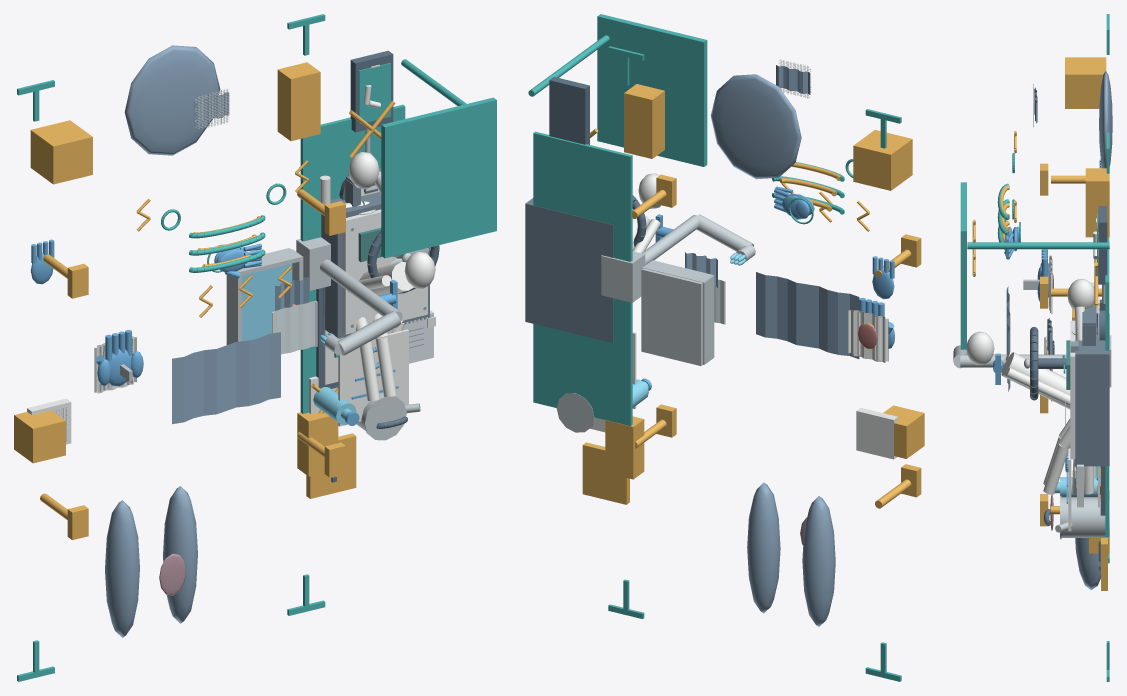
The model's file is teaching-props.glb.
3 views of the same model, side by side, from view 1: azimuth 30°, elevation 25°; view 2: azimuth 150°, elevation 25°; view 3: azimuth 270°, elevation 25° (orthographic). The views are drawn at different scales.
Visible parts, largest first — view 1: teaching_shade, teaching_cushion, teaching_blanket, teaching_supports, teaching_hazards, teaching_recovery-guide-board, teaching_hazards-clear, teaching_clear, teaching_tap, trainer-aed-face, teaching_aed-diagram, teaching_tray-water (+22 smaller); view 2: teaching_recovery-guide-board, teaching_shade, trainer-aed-case, teaching_cushion, teaching_tray, teaching_supports, teaching_blanket, teaching_hazards, teaching_tap, teaching_hazards-clear, teaching_clear, teaching_call (+12 smaller); view 3: trainer-aed-case, teaching_hazards, teaching_sit-guide-person, teaching_shade, teaching_source-off, teaching_clear, teaching_recovery-guide-person, teaching_cushion, teaching_legs-guide-person, teaching_fan, teaching_supports, teaching_tap (+16 smaller).
Part boxes in pixels (bbox=[...]): teaching_shade: bbox=[381, 59, 496, 258]; teaching_cushion: bbox=[124, 45, 220, 155]; teaching_blanket: bbox=[172, 332, 280, 424]; teaching_supports: bbox=[105, 486, 197, 637]; teaching_hazards: bbox=[30, 62, 320, 184]; teaching_recovery-guide-board: bbox=[300, 104, 405, 413]; teaching_hazards-clear: bbox=[14, 410, 338, 476]; teaching_clear: bbox=[40, 189, 345, 539]; teaching_tap: bbox=[296, 237, 402, 355]; trainer-aed-face: bbox=[342, 209, 427, 334]; teaching_aed-diagram: bbox=[338, 329, 408, 426]; teaching_tray-water: bbox=[242, 263, 292, 341]; teaching_recovery-guide-board: bbox=[533, 131, 632, 425]; teaching_shade: bbox=[528, 14, 707, 166]; trainer-aed-case: bbox=[525, 198, 613, 342]; teaching_cushion: bbox=[710, 74, 801, 179]; teaching_tray: bbox=[641, 260, 714, 365]; teaching_supports: bbox=[747, 482, 835, 626]; teaching_blanket: bbox=[756, 272, 859, 358]; teaching_hazards: bbox=[624, 84, 912, 190]; teaching_tap: bbox=[601, 214, 755, 302]; teaching_hazards-clear: bbox=[605, 405, 924, 479]; teaching_clear: bbox=[632, 174, 921, 508]; teaching_call: bbox=[549, 77, 589, 144]; trainer-aed-case: bbox=[1075, 313, 1109, 466]; teaching_hazards: bbox=[1065, 57, 1109, 237]; teaching_sit-guide-person: bbox=[966, 331, 1093, 494]; teaching_shade: bbox=[960, 182, 1109, 349]; teaching_source-off: bbox=[1055, 495, 1109, 539]; teaching_clear: bbox=[1040, 163, 1101, 526]; teaching_recovery-guide-person: bbox=[1067, 279, 1096, 494]; teaching_cushion: bbox=[1099, 71, 1112, 168]; teaching_legs-guide-person: bbox=[1043, 418, 1070, 494]; teaching_fan: bbox=[1030, 327, 1066, 400]; teaching_supports: bbox=[1075, 466, 1100, 589]; teaching_tap: bbox=[953, 335, 1111, 387].
Size of the model in its own units: 1.23 by 1.74 by 0.465.
